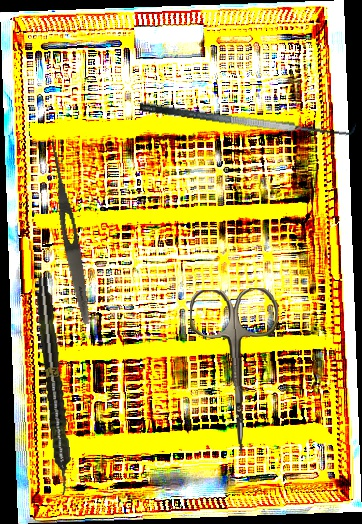Dressing Forceps: (43, 138, 95, 326)
Handpiece: (32, 276, 75, 496)
Iris Scissors: (189, 287, 283, 457)
Spatula Surgical: (139, 84, 357, 146)
